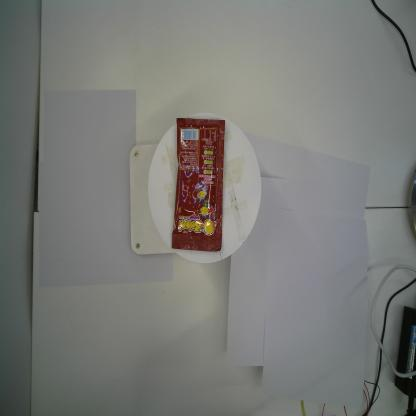Candy: (171, 116, 226, 252)
